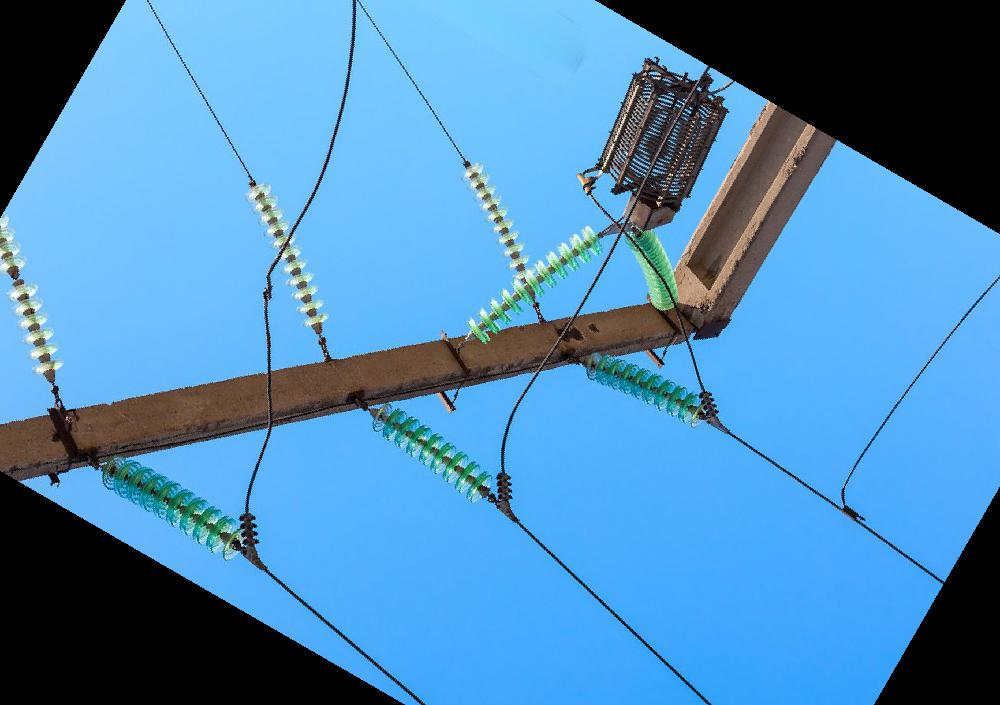insulator: (463, 219, 608, 346), (98, 451, 256, 566), (365, 397, 501, 508), (240, 175, 333, 334), (1, 208, 68, 383), (581, 347, 712, 432), (458, 157, 536, 273), (622, 218, 684, 315)
insulator_stringdrop: (1, 254, 41, 303)
